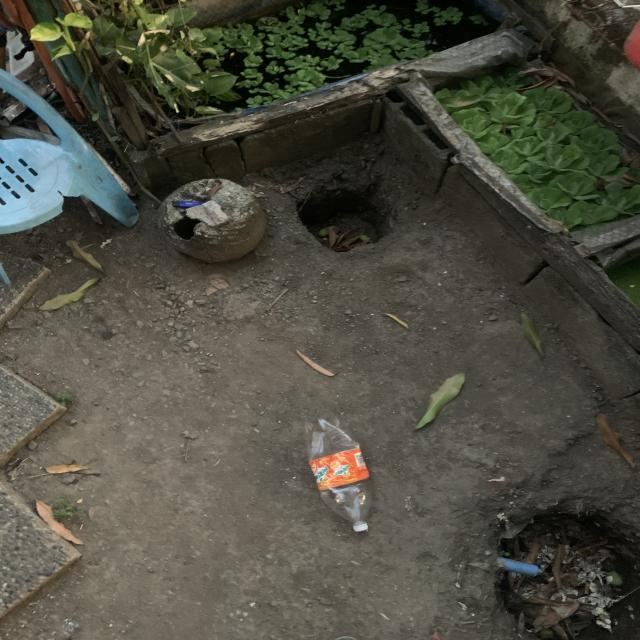Bottle: (306, 415, 372, 532)
